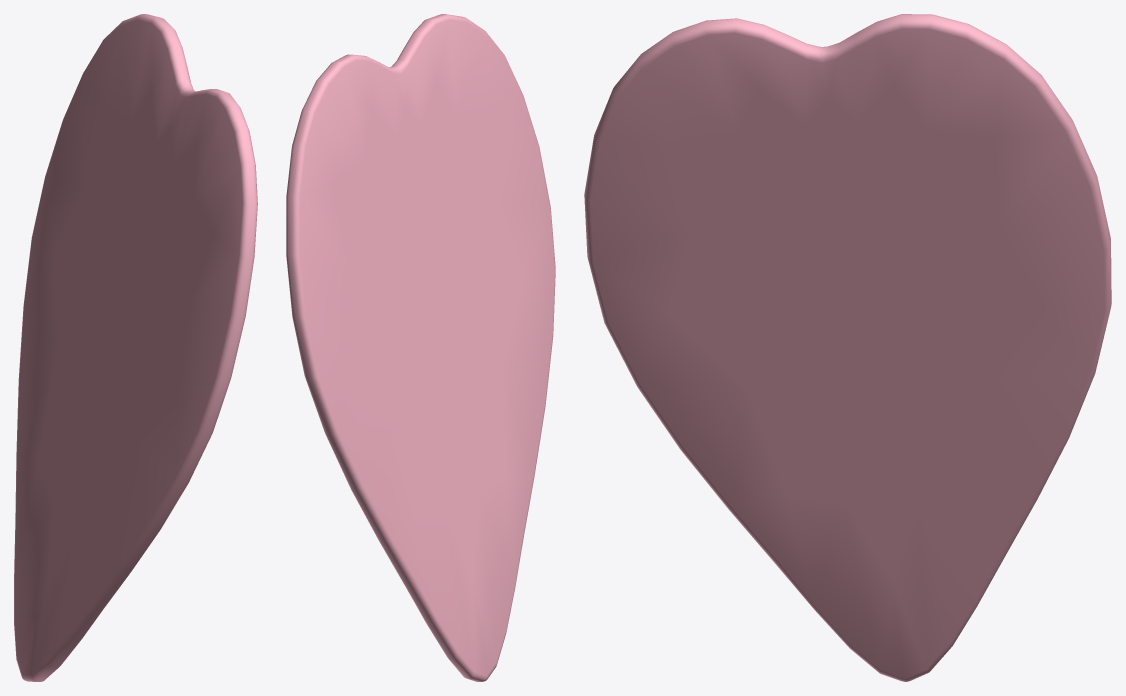
The model's file is pinkFlower_3.glb.
3 views of the same model, side by side, from view 1: azimuth 30°, elevation 25°; view 2: azimuth 150°, elevation 25°; view 3: azimuth 270°, elevation 25° (orthographic). The views are drawn at different scales.
Parts seen in each view (by area): view 1: Petal_01_Sakura_Cleft.076; view 2: Petal_01_Sakura_Cleft.076; view 3: Petal_01_Sakura_Cleft.076.
Boxes of the visible parts, x1=… form: Petal_01_Sakura_Cleft.076: x1=14, y1=14, x2=257, y2=681; Petal_01_Sakura_Cleft.076: x1=286, y1=14, x2=555, y2=681; Petal_01_Sakura_Cleft.076: x1=584, y1=14, x2=1111, y2=681.
Bounding box in the file's own units: 0.5067 × 1.95 × 1.25.
